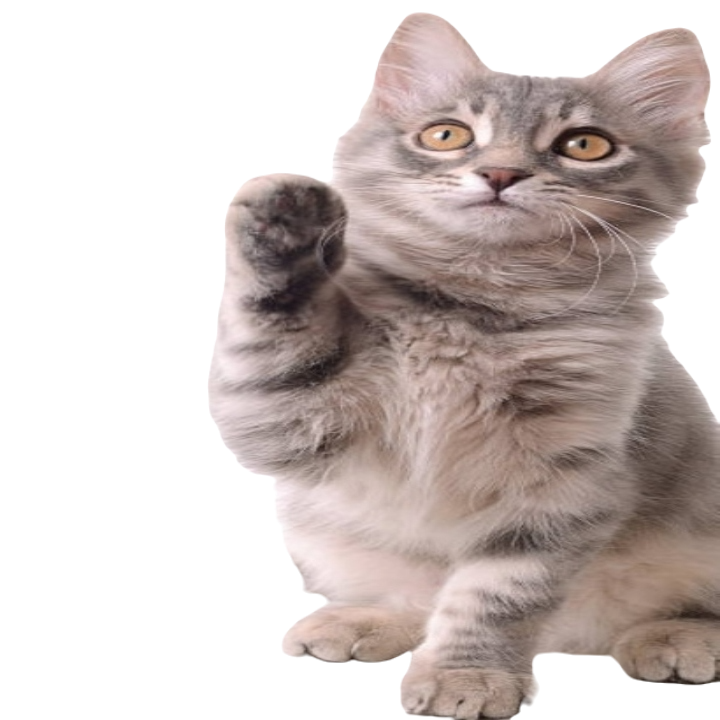Cat: (195, 4, 719, 719)
